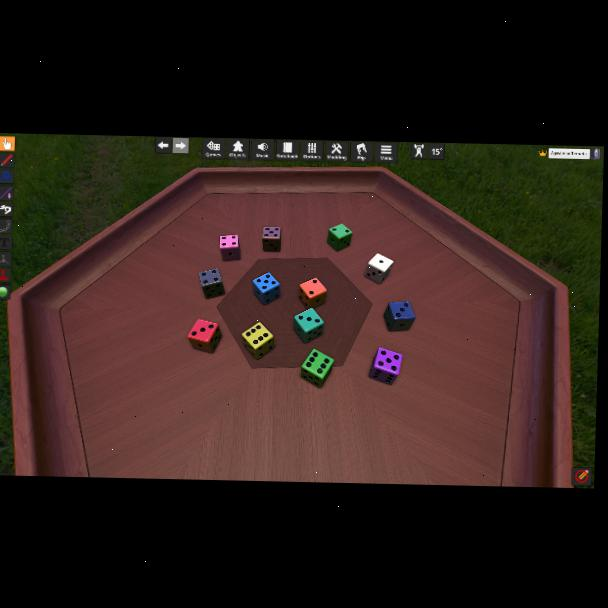d6: (300, 349, 334, 388), (241, 322, 275, 360), (370, 347, 403, 385), (188, 318, 221, 353), (294, 308, 324, 344), (252, 271, 282, 305), (384, 300, 415, 332), (364, 252, 392, 285), (198, 268, 226, 300), (299, 277, 326, 309), (327, 223, 352, 252), (218, 234, 241, 263), (262, 226, 282, 252)
